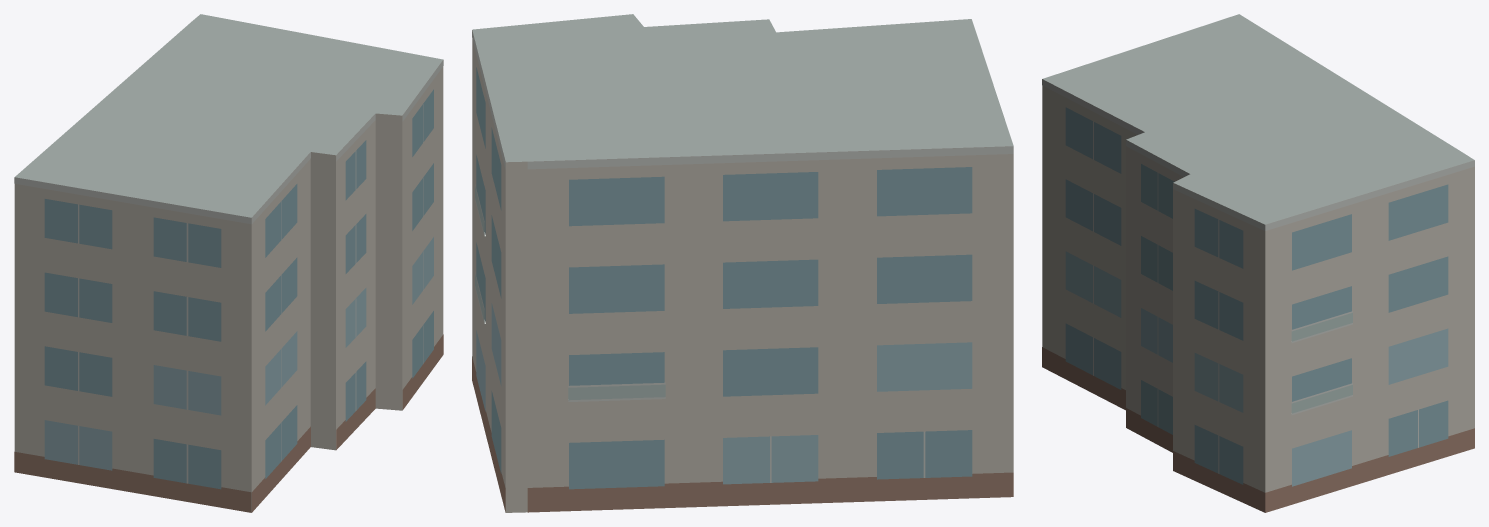
The model's file is survey-upis-32773786.glb.
The picture shows the model from 3 angles, left to right: view 1: azimuth 30°, elevation 25°; view 2: azimuth 150°, elevation 25°; view 3: azimuth 270°, elevation 25°; orthographic projection. The views are drawn at different scales.
Visible parts, largest first — view 1: survey-upis-32773786.tmp; view 2: survey-upis-32773786.tmp; view 3: survey-upis-32773786.tmp.
Part boxes in pixels (x1,y1,x2,y2): survey-upis-32773786.tmp: (14,14,443,512); survey-upis-32773786.tmp: (472,14,1013,512); survey-upis-32773786.tmp: (1042,14,1474,512).
Size of the model in its own units: 17.26 by 11 by 14.98.
